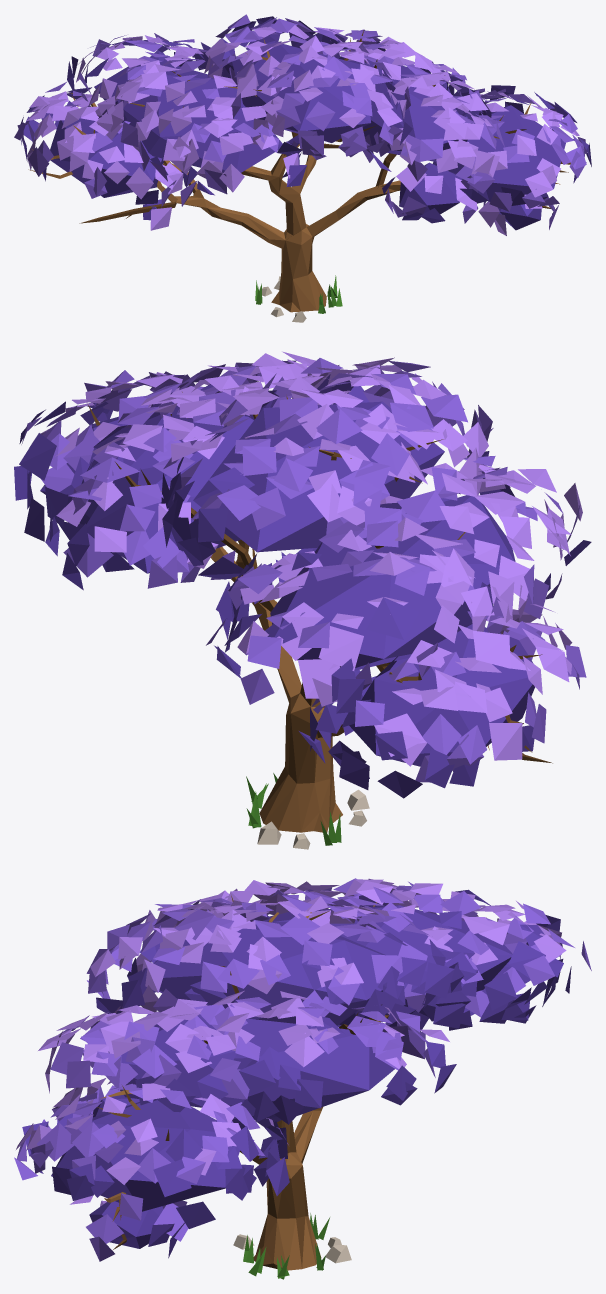
Rendered from jacaranda_2_bloom.glb.
3 views of the same model, one above another, from view 1: azimuth 30°, elevation 25°; view 2: azimuth 150°, elevation 25°; view 3: azimuth 270°, elevation 25° (orthographic). The views are drawn at different scales.
Parts seen in each view (by area): view 1: jacaranda_2_bloom; view 2: jacaranda_2_bloom; view 3: jacaranda_2_bloom.
Part boxes in pixels (x1,y1,x2,y2): jacaranda_2_bloom: (14,14,591,322); jacaranda_2_bloom: (14,351,591,849); jacaranda_2_bloom: (14,878,591,1279).
Size of the model in its own units: 10.69 by 6.3 by 9.36.
